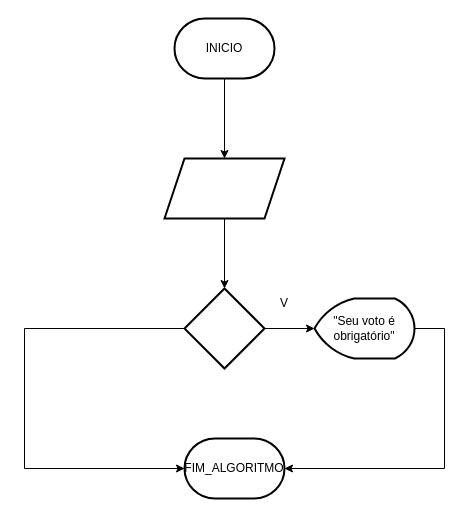
Some shapes in this 470 by 516 pixel diagram are drawn without their labels. The centre of each missing label's shape, as x and y in pixels:
IDADE=18: point (224, 188)
IDADE>=18: point (224, 328)
